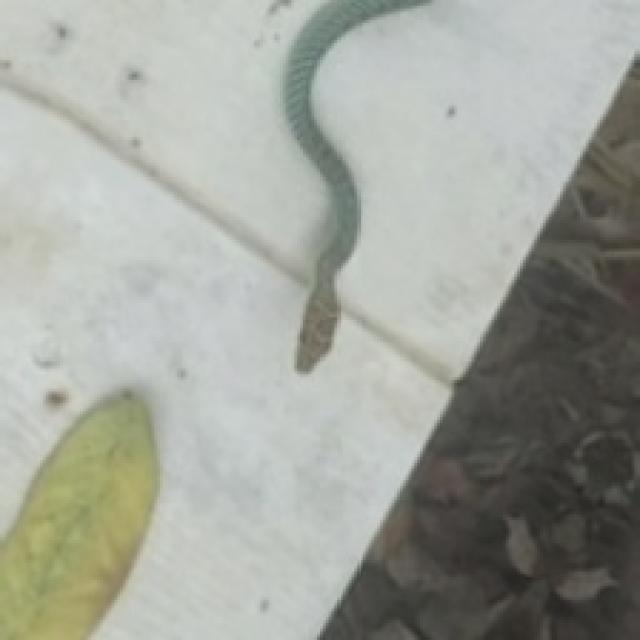paradise tree snake: (340, 0, 634, 369), (283, 0, 423, 369)
